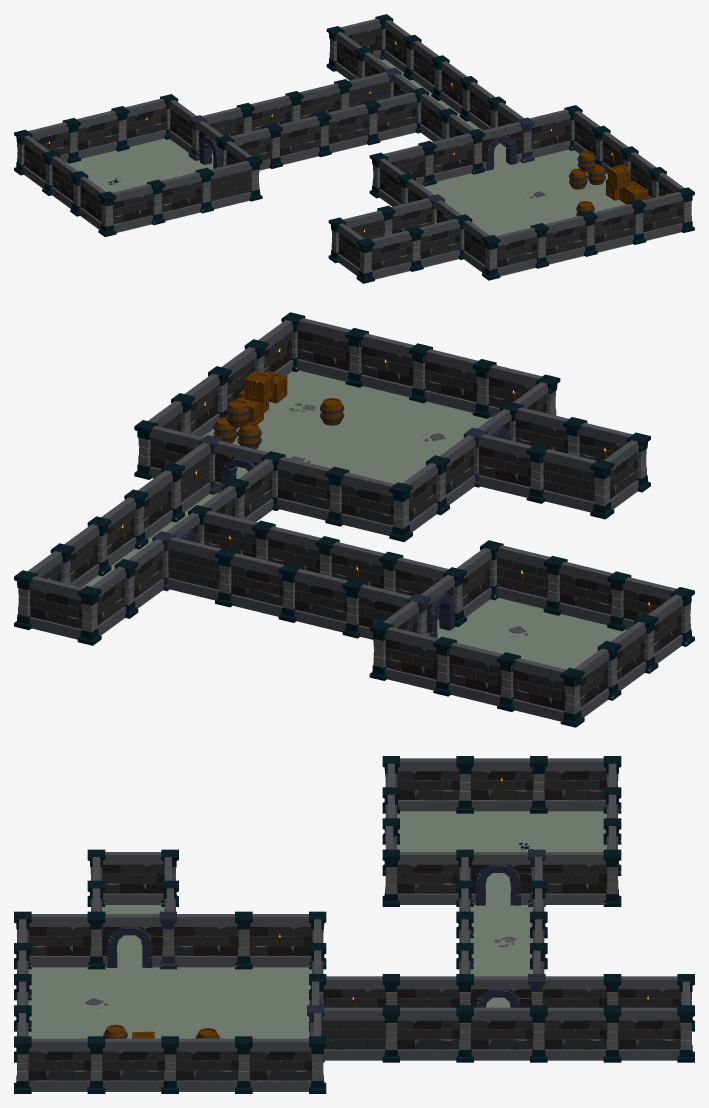
Rendered from Dungeon.glb.
3 views of the same model, one above another, from view 1: azimuth 30°, elevation 25°; view 2: azimuth 150°, elevation 25°; view 3: azimuth 270°, elevation 25° (orthographic). The views are drawn at different scales.
Parts seen in each view (by area): view 1: Wall Segment.006, Wall Segment.042, Wall Segment.026, Wall Segment.007, Wall Segment.033, Wall Segment.025, Wall Segment.039, Wall Segment.041, Wall Segment.008, Wall Segment.038, Wall Segment.009, Wall Segment.032 (+52 smaller); view 2: Wall Segment.034, Wall Segment.044, Wall Segment.001, Wall Segment.009, Wall Segment.029, Wall Segment.032, Wall Segment.039, Wall Segment.007, Wall Segment.033, Wall Segment.030, Wall Segment.019, Wall Segment.008 (+53 smaller); view 3: Wall Segment.003, Wall Segment.020, Wall Segment.023, Wall Segment.011, Wall Segment.012, Wall Segment.031, Wall Segment.022, Wall Segment.010, Wall Segment.005, Wall Segment.013, Wall Segment.021, Wall Segment.036 (+52 smaller).
Boxes of the visible parts, bbox=[...] form: Wall Segment.006: bbox=[482, 227, 536, 280]; Wall Segment.042: bbox=[356, 230, 411, 283]; Wall Segment.026: bbox=[265, 116, 319, 168]; Wall Segment.007: bbox=[530, 215, 585, 268]; Wall Segment.033: bbox=[62, 110, 117, 163]; Wall Segment.025: bbox=[313, 104, 368, 157]; Wall Segment.039: bbox=[161, 167, 213, 220]; Wall Segment.041: bbox=[405, 218, 460, 271]; Wall Segment.008: bbox=[579, 203, 634, 256]; Wall Segment.038: bbox=[112, 179, 165, 232]; Wall Segment.009: bbox=[628, 191, 682, 244]; Wall Segment.032: bbox=[111, 98, 166, 151]; Wall Segment.034: bbox=[512, 658, 584, 727]; Wall Segment.044: bbox=[478, 434, 550, 503]; Wall Segment.001: bbox=[325, 466, 394, 535]; Wall Segment.009: bbox=[297, 318, 368, 387]; Wall Segment.029: bbox=[278, 563, 347, 632]; Wall Segment.032: bbox=[385, 627, 456, 696]; Wall Segment.039: bbox=[543, 556, 612, 624]; Wall Segment.007: bbox=[424, 349, 496, 418]; Wall Segment.033: bbox=[449, 642, 520, 711]; Wall Segment.030: bbox=[215, 547, 284, 616]; Wall Segment.019: bbox=[14, 570, 83, 639]; Wall Segment.008: bbox=[361, 333, 432, 403]; Wall Segment.003: bbox=[174, 911, 252, 969]; Wall Segment.020: bbox=[603, 1005, 680, 1062]; Wall Segment.023: bbox=[382, 1005, 459, 1062]; Wall Segment.011: bbox=[87, 1036, 164, 1093]; Wall Segment.012: bbox=[161, 1036, 238, 1093]; Wall Segment.031: bbox=[542, 849, 621, 906]; Wall Segment.022: bbox=[456, 1005, 533, 1062]; Wall Segment.010: bbox=[14, 1036, 90, 1093]; Wall Segment.005: bbox=[28, 911, 105, 969]; Wall Segment.013: bbox=[235, 1036, 311, 1093]; Wall Segment.021: bbox=[530, 1005, 607, 1062]; Wall Segment.036: bbox=[456, 756, 533, 813].
Size of the model in its own units: 36.95 by 3.1 by 36.95.
Materials: 2 (2 with a texture image).
